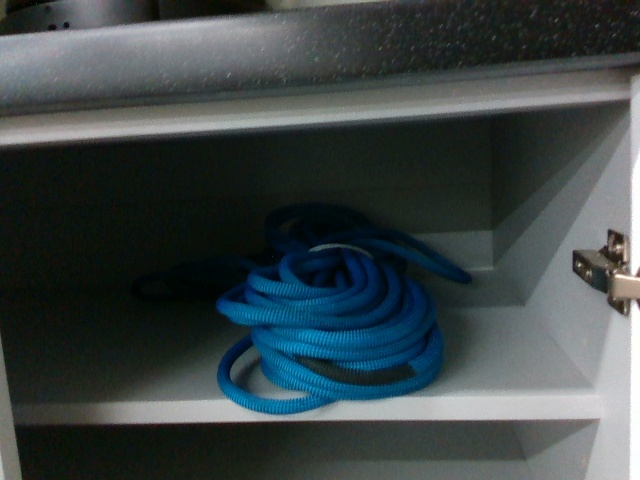rope: (221, 238, 447, 391)
